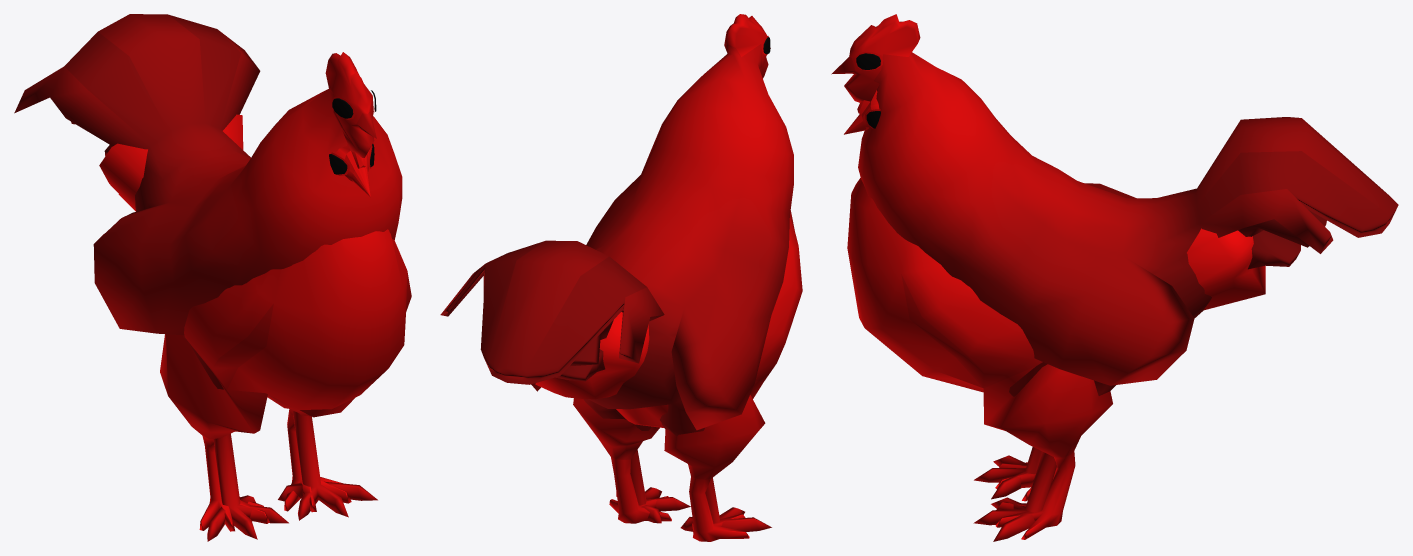
File: Chicken.glb
3 renders of one model, left to right at view 1: azimuth 30°, elevation 25°; view 2: azimuth 150°, elevation 25°; view 3: azimuth 270°, elevation 25°, orthographic. The views are drawn at different scales.
Visible parts, largest first — view 1: alt612; view 2: alt612; view 3: alt612.
Part boxes in pixels (x1,y1,x2,y2): alt612: (14,14,411,541); alt612: (440,14,802,541); alt612: (831,14,1398,541).
Bounding box in the file's own units: 29.97 × 62.66 × 65.58.
